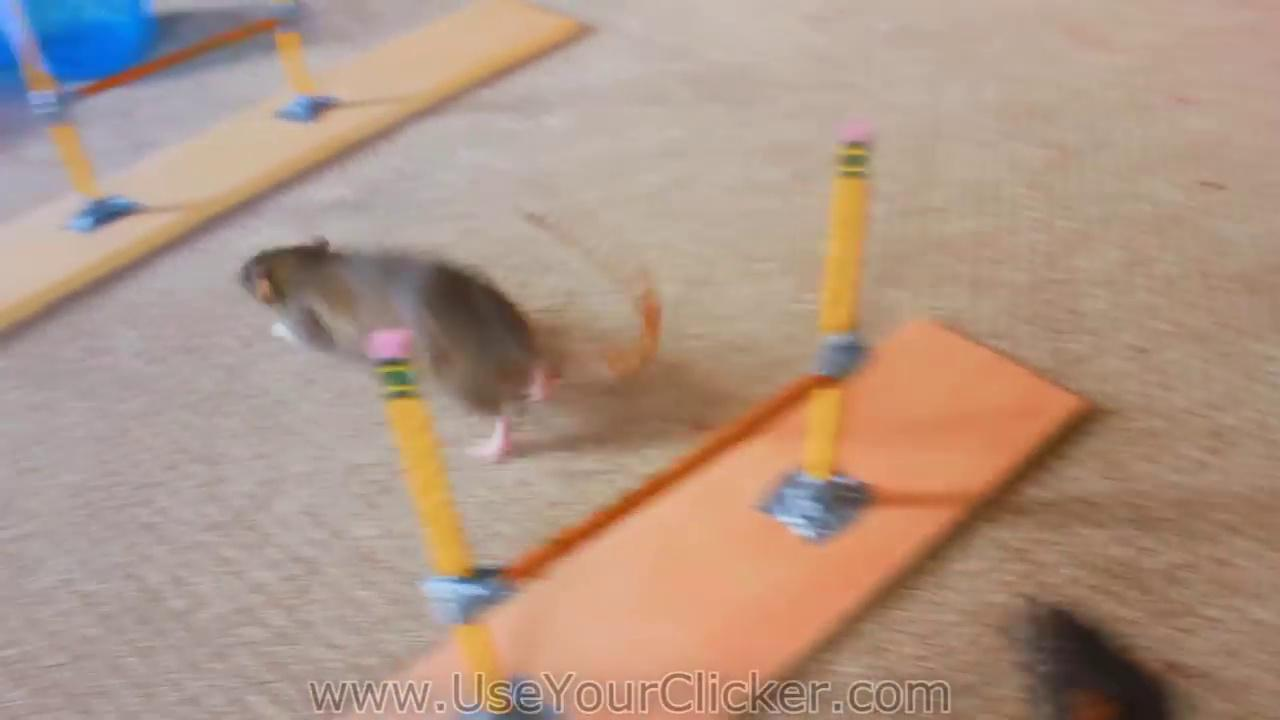rat: (237, 236, 549, 460)
